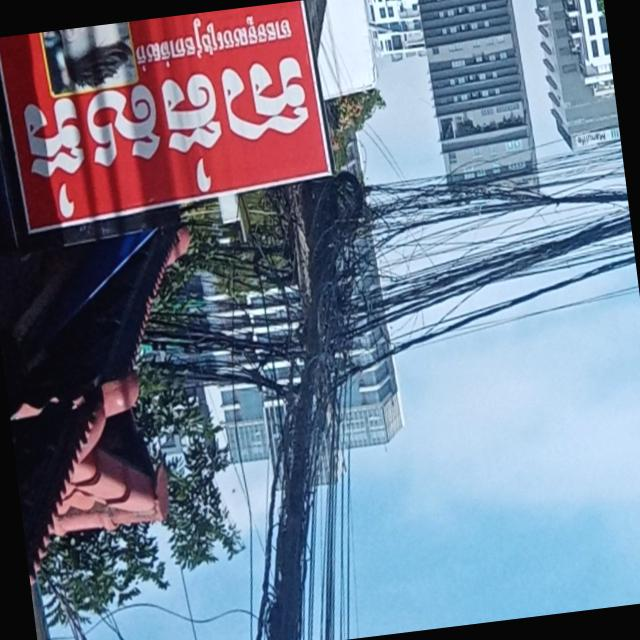Yolov11_80vkh: (2, 48, 327, 230), (119, 4, 309, 84)
